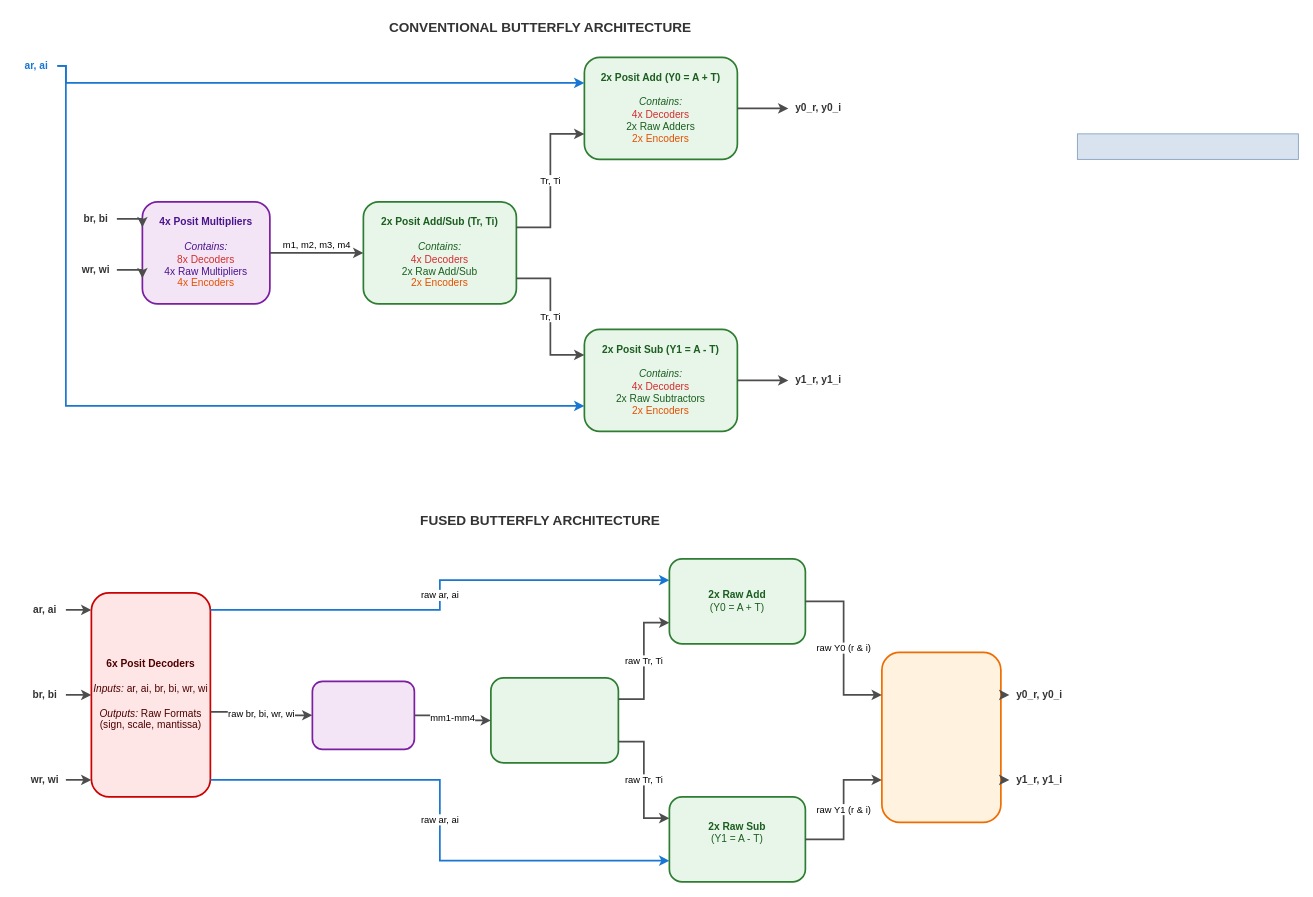
Image size: 1313x897. Some labels were removed from this diagram. Here are the shapes that lost their labels. From the top down, the centre of each, then its label:
At point (363, 715): "4x Raw Multipliers".
At point (554, 720): "2x Raw Add/Sub (Calculates Tr, Ti)".
At point (941, 737): "4x Posit Encoders Outputs: Encoded Posits".
